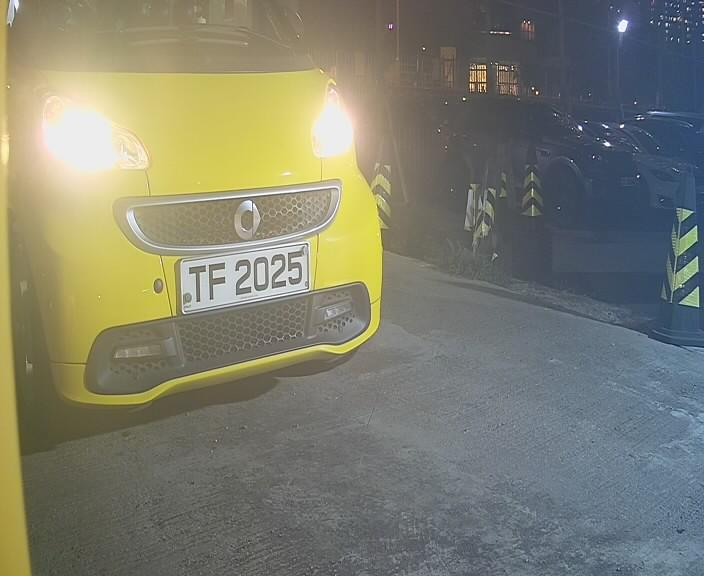License Plate: (170, 238, 316, 316)
